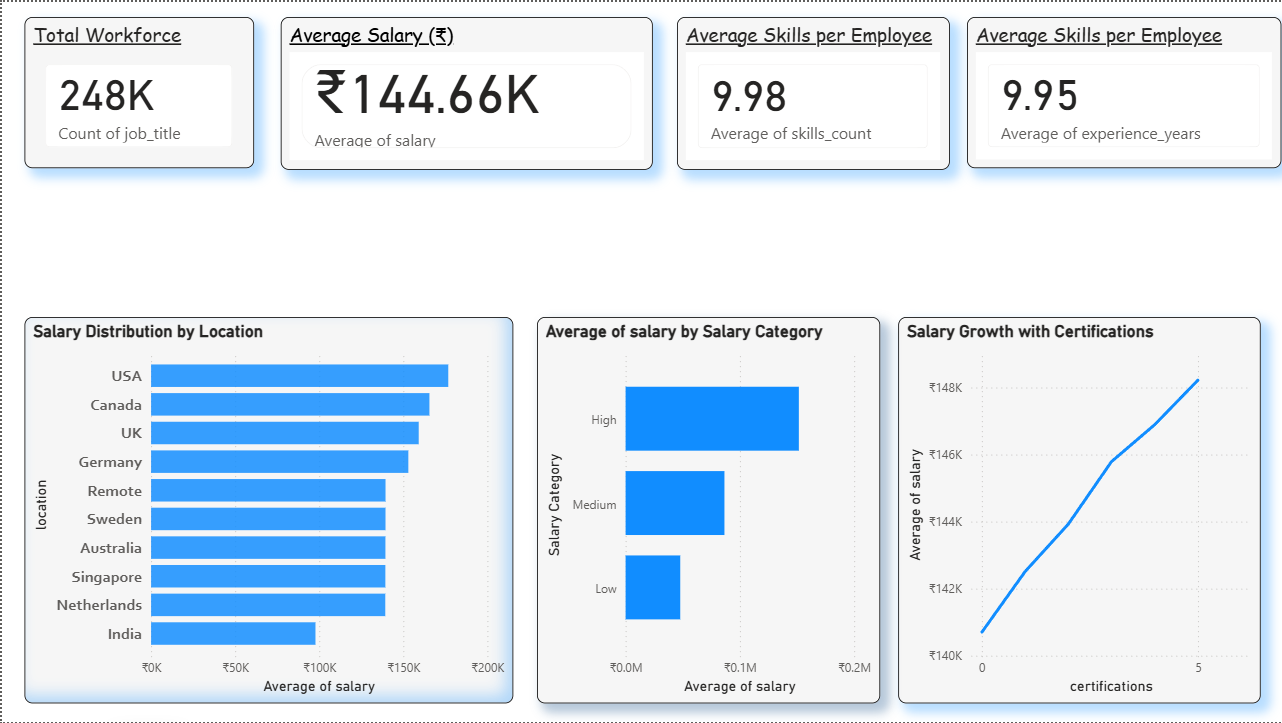

The page's visual inventory and layout, read from the dashboard file:
{"tool":"powerbi","page":{"name":"Page 3","canvas":[1280,720],"ordinal":2},"visuals":[{"type":"clusteredBarChart","title":"Salary Distribution by Location","fields":{"Category":["cleaned_data.location"],"Y":["Avg(cleaned_data.salary)"]},"box":[23.1,314.5,489.1,386.7],"z":0},{"type":"lineChart","title":"Salary Growth with Certifications","fields":{"Category":["cleaned_data.certifications"],"Y":["Avg(cleaned_data.salary)"]},"box":[896,314.5,362.1,386.7],"z":3000},{"type":"clusteredBarChart","fields":{"Category":["cleaned_data.Salary Category"],"Y":["Avg(cleaned_data.salary)"]},"box":[535.3,314.5,343.4,386.7],"z":5000},{"type":"cardVisual","title":"Average Salary (₹)","fields":{"Data":["Avg(cleaned_data.salary)"]},"box":[278.5,14.4,372.2,152.9],"z":8000},{"type":"cardVisual","title":"Total Workforce","fields":{"Data":["CountNonNull(cleaned_data.job_title)"]},"box":[23.1,14.4,229.4,151.5],"z":9000},{"type":"cardVisual","title":"Average Skills per Employee","fields":{"Data":["Avg(cleaned_data.skills_count)"]},"box":[675.2,14.4,272.7,152.9],"z":10000},{"type":"cardVisual","title":"Average Skills per Employee","fields":{"Data":["Avg(cleaned_data.experience_years)"]},"box":[965.2,14.4,314.5,151.5],"z":11000}]}

Visuals, with their boxes in screenshot pixels (x1, y1, x2, y2), scaled from the page's 1280x720 canvas onto the 1282x723 screenshot:
"Salary Distribution by Location" clusteredBarChart: <box>23,316,513,704</box>
"Salary Growth with Certifications" lineChart: <box>897,316,1260,704</box>
clusteredBarChart - cleaned_data.Salary Category x Avg(cleaned_data.salary): <box>536,316,880,704</box>
"Average Salary (₹)" cardVisual: <box>279,14,652,168</box>
"Total Workforce" cardVisual: <box>23,14,253,167</box>
"Average Skills per Employee" cardVisual: <box>676,14,949,168</box>
"Average Skills per Employee" cardVisual: <box>967,14,1281,167</box>
